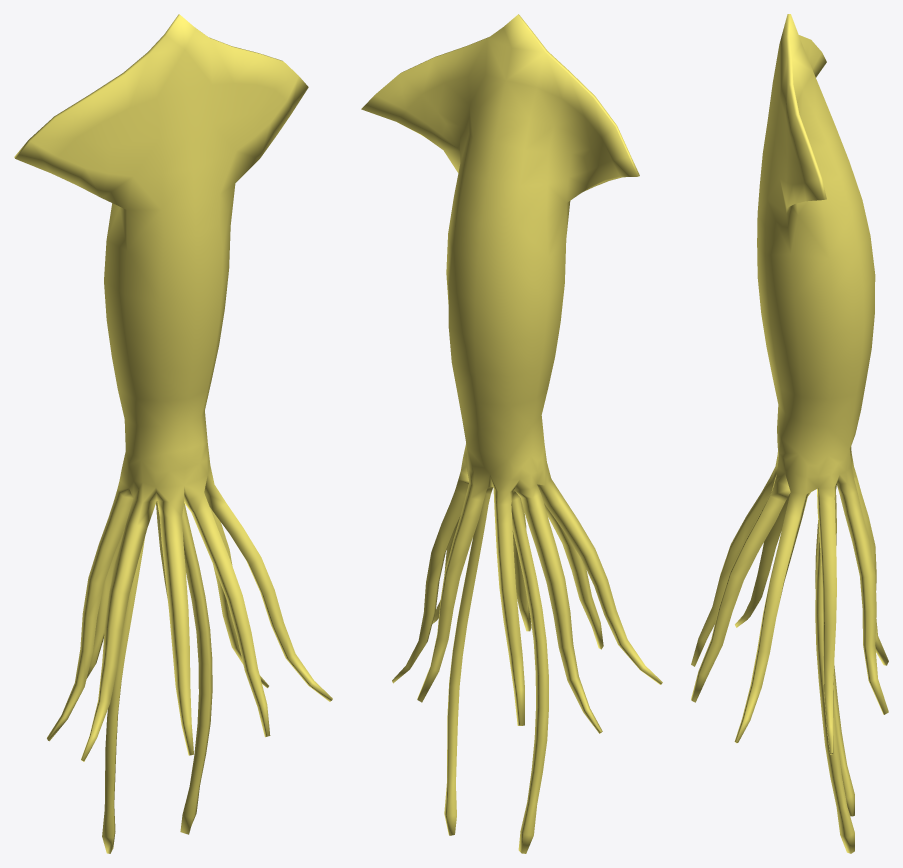
File: Squid_002.glb
3 renders of one model, left to right at view 1: azimuth 30°, elevation 25°; view 2: azimuth 150°, elevation 25°; view 3: azimuth 270°, elevation 25°, orthographic. The views are drawn at different scales.
Visible parts, largest first — view 1: Squid_002; view 2: Squid_002; view 3: Squid_002.
Boxes of the visible parts, x1=… form: Squid_002: x1=14, y1=14, x2=332, y2=853; Squid_002: x1=361, y1=14, x2=662, y2=853; Squid_002: x1=691, y1=14, x2=888, y2=853.
Size of the model in its own units: 0.8694 by 2.41 by 0.5271.
Materials: 1 (1 with a texture image).
